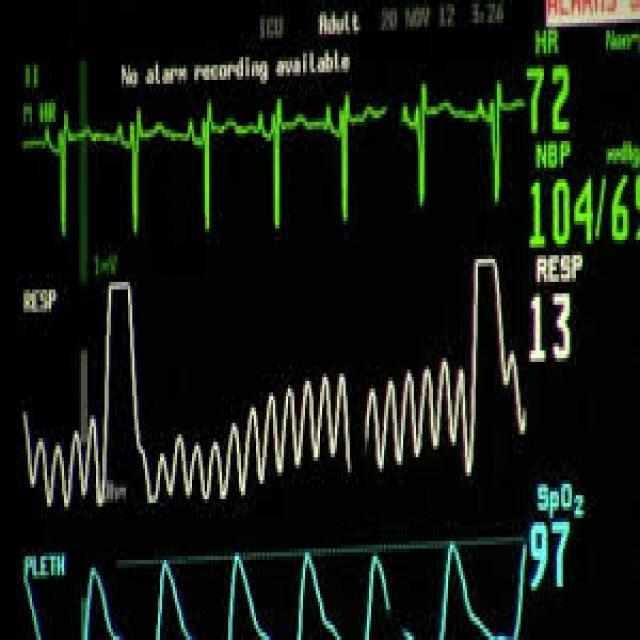cardiac_monitor: (20, 20, 613, 623)
